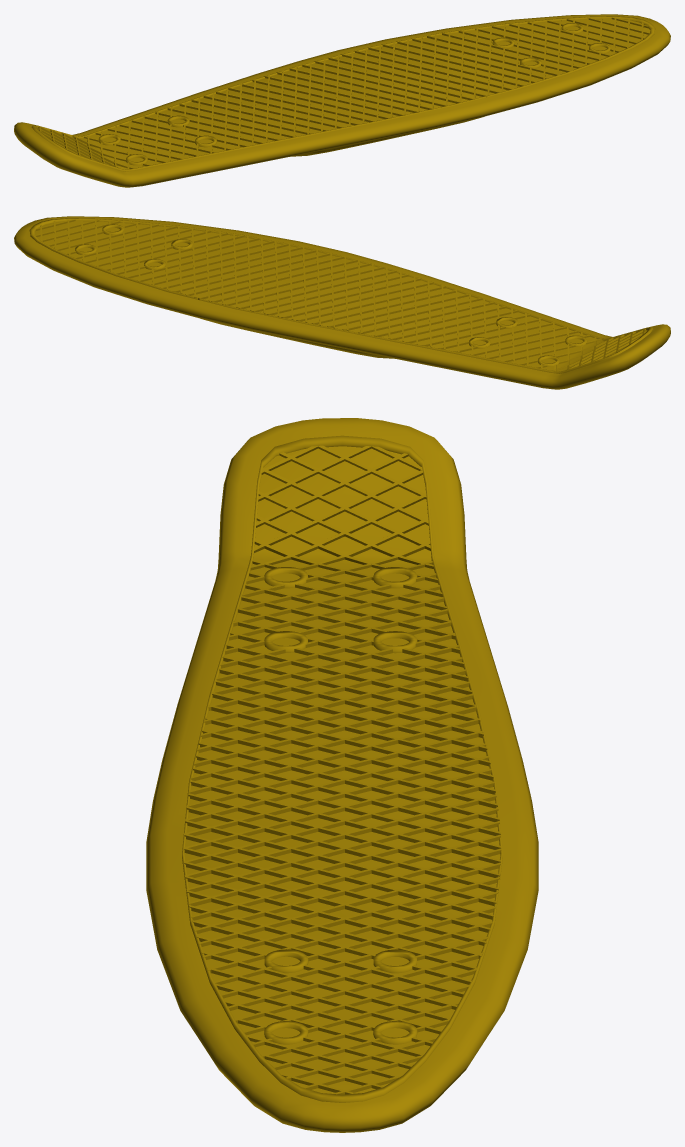
File: board.obj
3 renders of one model, top to bottom at view 1: azimuth 30°, elevation 25°; view 2: azimuth 150°, elevation 25°; view 3: azimuth 270°, elevation 25°, orthographic. The views are drawn at different scales.
Parts seen in each view (by area): view 1: board_Plane.004; view 2: board_Plane.004; view 3: board_Plane.004.
Boxes of the visible parts, x1,y1,x2,y2 form: board_Plane.004: [14, 14, 670, 187]; board_Plane.004: [14, 216, 670, 389]; board_Plane.004: [146, 418, 538, 1132].
Size of the model in its own units: 9.16 by 0.8098 by 2.44.
